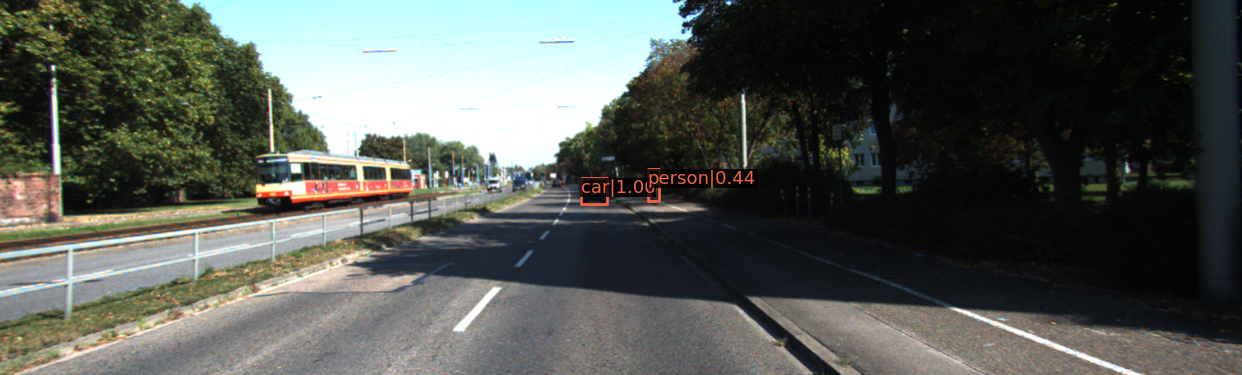car: (582, 180, 608, 206)
